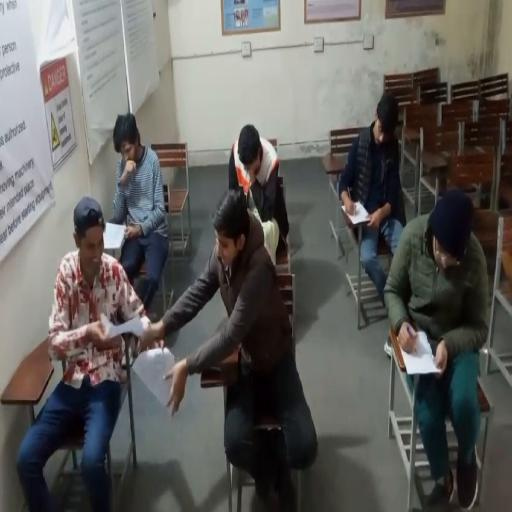paper: (133, 346, 177, 408), (398, 328, 444, 376), (100, 312, 144, 339), (342, 200, 371, 225), (103, 221, 126, 250)
